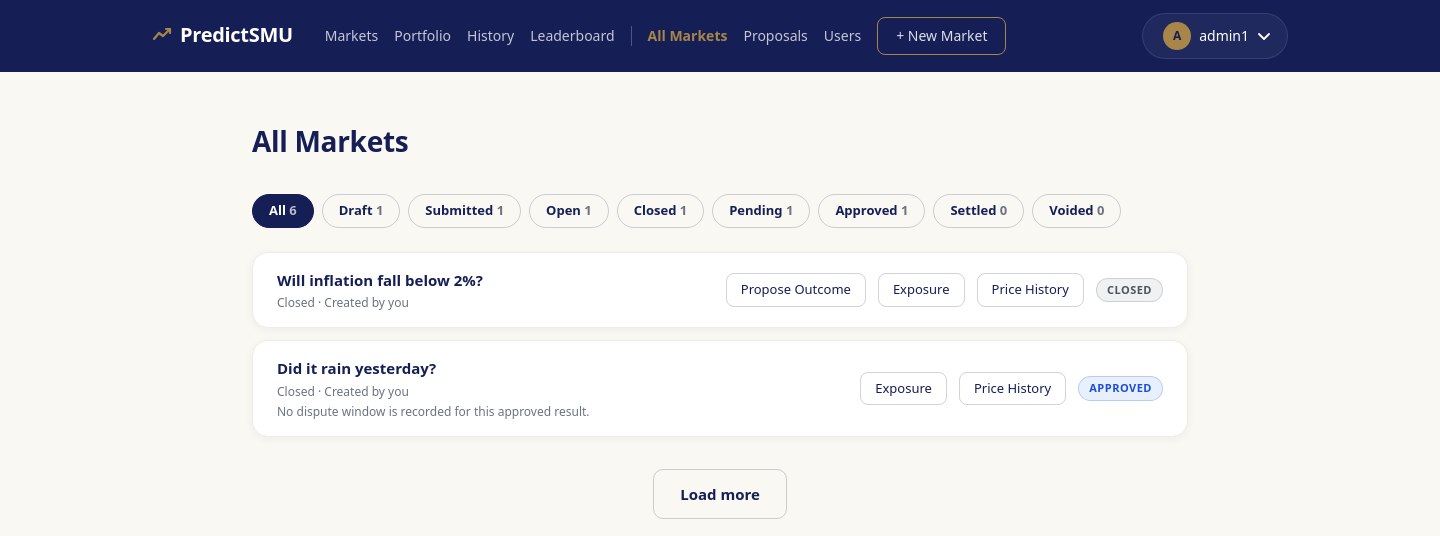
AdminMarketsPage › drops a page that arrives after the status filter changed
The image size is (1440, 536).
Expected: the text "Will inflation fall below 2%?" is shown, [277,268,483,291]
Step 1. Click the button "Load more" → (720, 494), box [653,468,787,519]
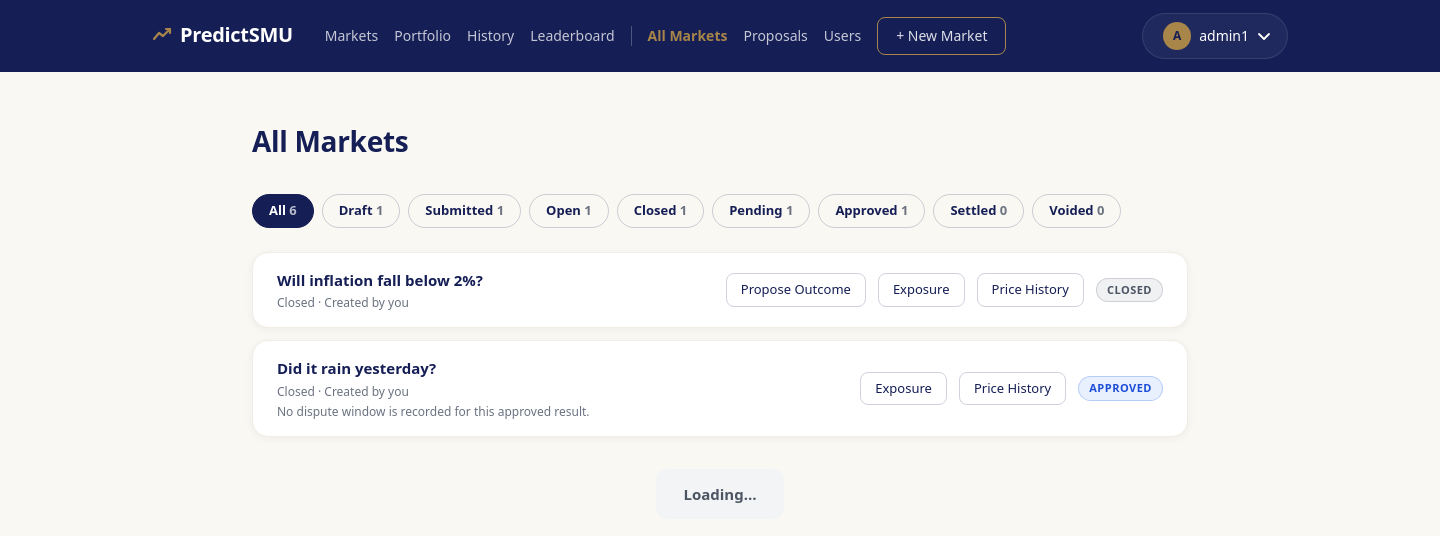
Step 2. Click the tab "Open 1" → (569, 211), box [529,194,609,228]
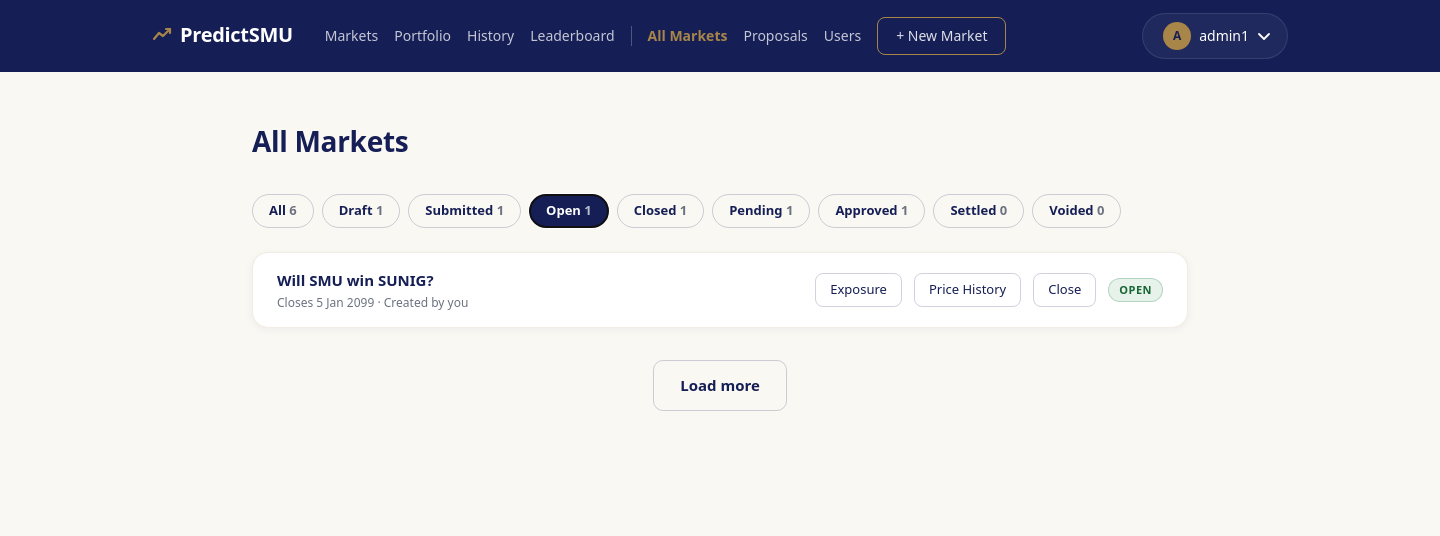
Expected: the text "Will SMU win SUNIG?" is shown, [277,270,434,290]
Expected: the button "Load more" is enabled, [653,360,787,410]
